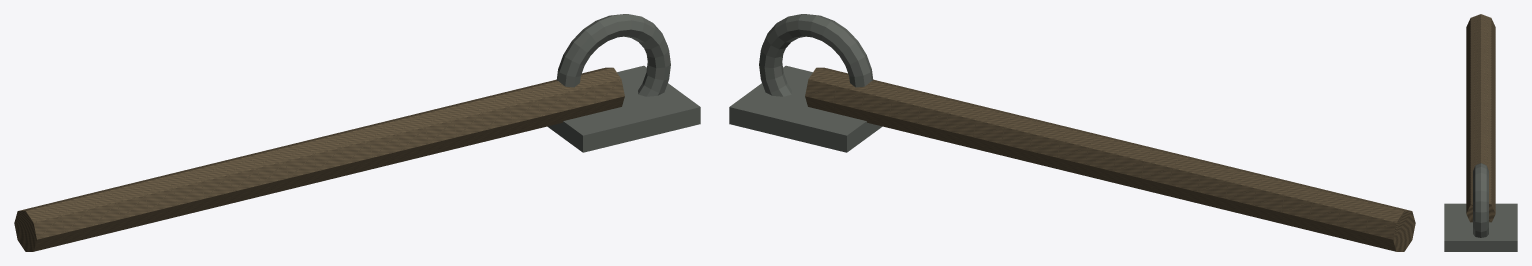
File: RappelFloorLead.fbx
The picture shows the model from 3 angles, left to right: view 1: azimuth 30°, elevation 25°; view 2: azimuth 150°, elevation 25°; view 3: azimuth 270°, elevation 25°; orthographic projection. The views are drawn at different scales.
Parts seen in each view (by area): view 1: RopeLead, FloorAnchorPlate, FloorAnchor; view 2: RopeLead, FloorAnchorPlate, FloorAnchor; view 3: RopeLead, FloorAnchorPlate, FloorAnchor.
Part boxes in pixels (left/top/right/bottom): RopeLead: left=14, top=67, right=624, bottom=251; FloorAnchorPlate: left=547, top=65, right=700, bottom=152; FloorAnchor: left=556, top=14, right=670, bottom=96; RopeLead: left=805, top=67, right=1415, bottom=251; FloorAnchorPlate: left=729, top=65, right=882, bottom=152; FloorAnchor: left=759, top=14, right=873, bottom=96; RopeLead: left=1466, top=14, right=1495, bottom=222; FloorAnchorPlate: left=1444, top=203, right=1517, bottom=251; FloorAnchor: left=1473, top=163, right=1488, bottom=237.
Size of the model in its own units: 0.99 by 0.172 by 0.15.
